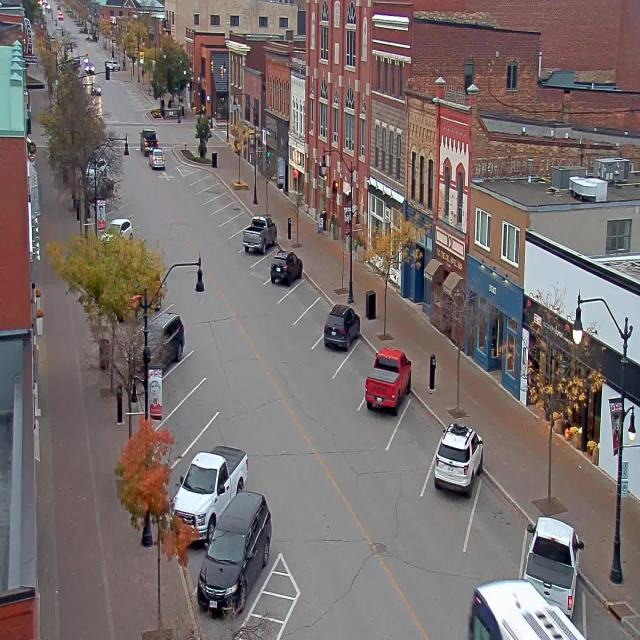available: (468, 462, 539, 573), (392, 383, 452, 470), (573, 564, 639, 640), (182, 398, 241, 478), (170, 372, 228, 446), (159, 336, 212, 400), (346, 330, 384, 383), (304, 287, 337, 338), (289, 269, 317, 315), (263, 228, 284, 264), (237, 203, 254, 232), (228, 196, 244, 220), (221, 188, 237, 212), (214, 176, 228, 200), (194, 160, 208, 183), (206, 166, 218, 188)
occupied: (196, 490, 272, 616), (172, 444, 248, 546), (522, 515, 584, 620), (434, 421, 484, 497), (364, 346, 412, 414), (143, 308, 185, 362), (323, 303, 360, 352), (242, 214, 277, 254), (270, 249, 303, 285)
